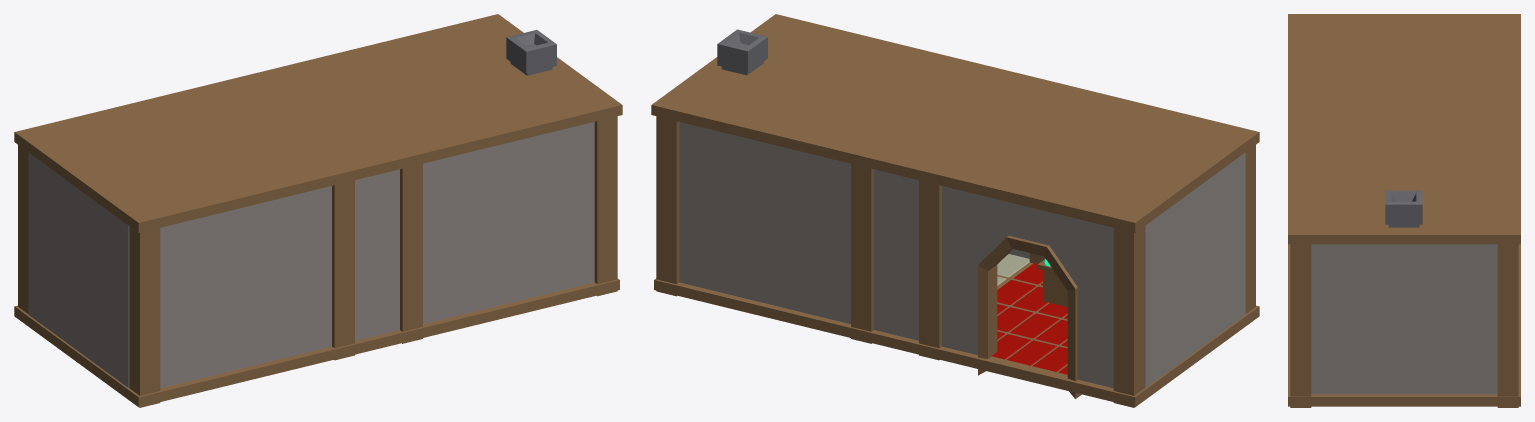
The model's file is house1.fbx.
3 renders of one model, left to right at view 1: azimuth 30°, elevation 25°; view 2: azimuth 150°, elevation 25°; view 3: azimuth 270°, elevation 25°, orthographic. The views are drawn at different scales.
Visible parts, largest first — view 1: Cube.005, Cube.009, Cube.008, Cube.003, Cube.001, Cube.004, Cube.007, Cube.010; view 2: Cube.005, Cube.009, Cube.003, Cube.002, Cube.001, Cube.004, Cube.007, Plane, Cube.006, Cube.010, Cube, Plane.002; view 3: Cube.005, Cube.003, Cube.007, Cube.004, Cube.010.
Part boxes in pixels (<box>): Cube.005: <box>14,14,622,232</box>; Cube.009: <box>355,122,594,340</box>; Cube.008: <box>160,186,331,388</box>; Cube.003: <box>28,152,129,387</box>; Cube.001: <box>18,145,354,407</box>; Cube.004: <box>14,278,619,407</box>; Cube.007: <box>400,116,617,343</box>; Cube.010: <box>506,30,556,75</box>; Cube.005: <box>651,14,1259,232</box>; Cube.009: <box>679,122,1029,340</box>; Cube.003: <box>1144,152,1245,387</box>; Cube.002: <box>942,186,1113,388</box>; Cube.001: <box>919,145,1255,407</box>; Cube.004: <box>654,254,1259,407</box>; Cube.007: <box>656,116,873,343</box>; Plane: <box>991,263,1067,374</box>; Cube.006: <box>978,235,1081,398</box>; Cube.010: <box>717,29,767,75</box>; Cube: <box>1037,259,1067,306</box>; Plane.002: <box>997,254,1029,285</box>; Cube.005: <box>1288,14,1520,244</box>; Cube.003: <box>1311,244,1497,394</box>; Cube.007: <box>1290,244,1518,407</box>; Cube.004: <box>1288,244,1520,406</box>; Cube.010: <box>1385,190,1422,227</box>.
Bounding box in the file's own units: 10963 × 4736 × 4877.
